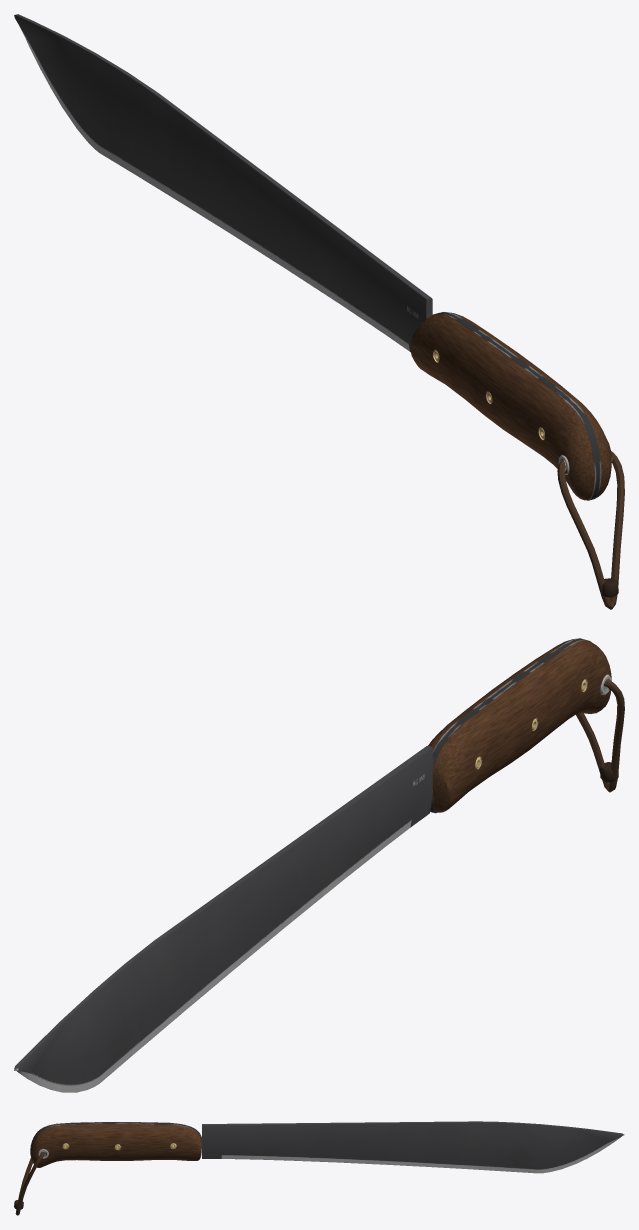
Rendered from facao_leve.glb.
3 views of the same model, one above another, from view 1: azimuth 30°, elevation 25°; view 2: azimuth 150°, elevation 25°; view 3: azimuth 270°, elevation 25° (orthographic). The views are drawn at different scales.
Parts seen in each view (by area): view 1: facao_leve; view 2: facao_leve; view 3: facao_leve.
Part boxes in pixels (<box>): facao_leve: <box>14,14,624,609</box>; facao_leve: <box>14,638,624,1092</box>; facao_leve: <box>14,1121,624,1215</box>.
Bounding box in the file's own units: 0.0297 × 0.0836 × 0.494.
1 material, 1 textured.
